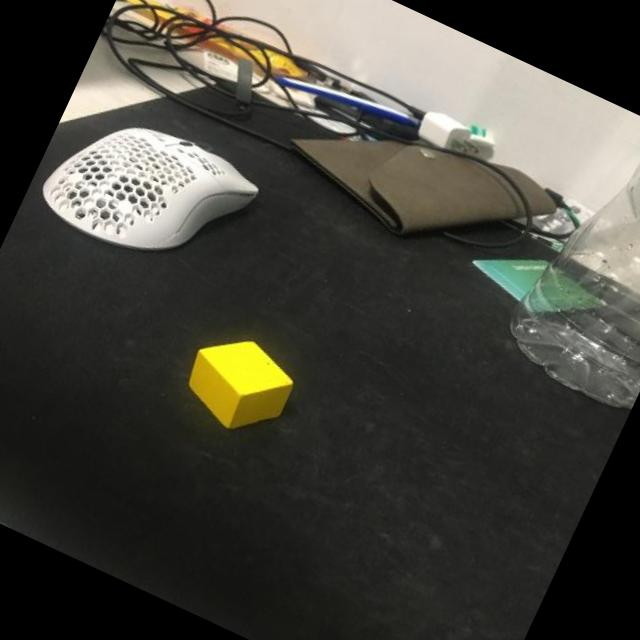yellow: (175, 322, 304, 446)
